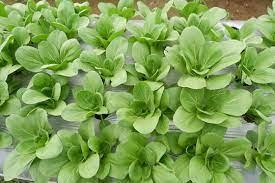Healthy-Pechay: (0, 1, 271, 181)
